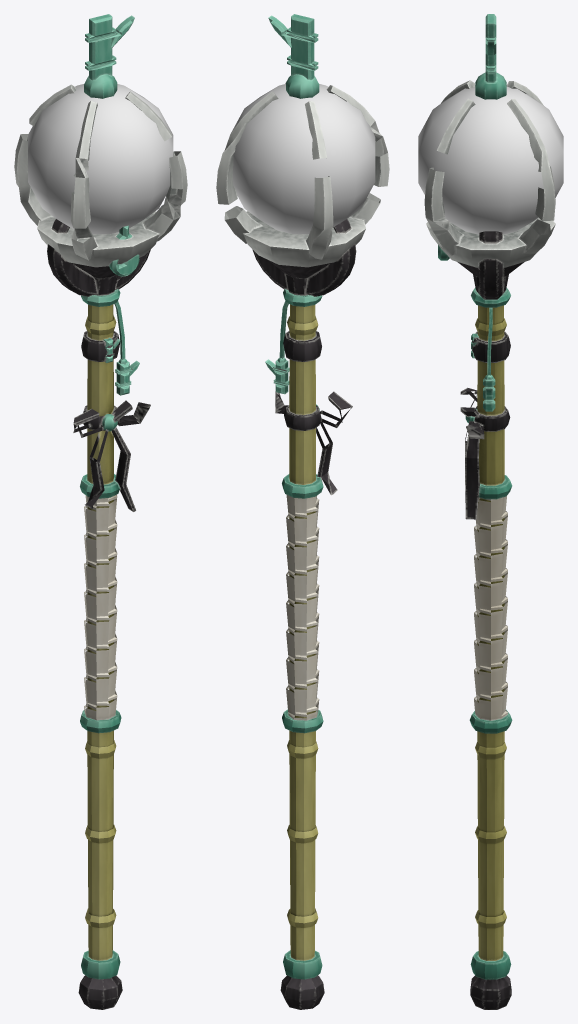
Rendered from Gourdsage Staff.fbx.
3 renders of one model, left to right at view 1: azimuth 30°, elevation 25°; view 2: azimuth 150°, elevation 25°; view 3: azimuth 270°, elevation 25°, orthographic.
Parts seen in each view (by area): view 1: Gourdsage Staff_Body, Gourdsage Staff_Glow; view 2: Gourdsage Staff_Body, Gourdsage Staff_Glow; view 3: Gourdsage Staff_Body, Gourdsage Staff_Glow.
Boxes of the visible parts, x1,y1,x2,y2 form: Gourdsage Staff_Body: (14, 14, 187, 1009); Gourdsage Staff_Glow: (28, 84, 173, 234); Gourdsage Staff_Body: (216, 14, 389, 1009); Gourdsage Staff_Glow: (230, 84, 375, 234); Gourdsage Staff_Body: (424, 14, 555, 1009); Gourdsage Staff_Glow: (418, 85, 563, 234).
Size of the model in its own units: 0.808 by 6.08 by 0.808.
